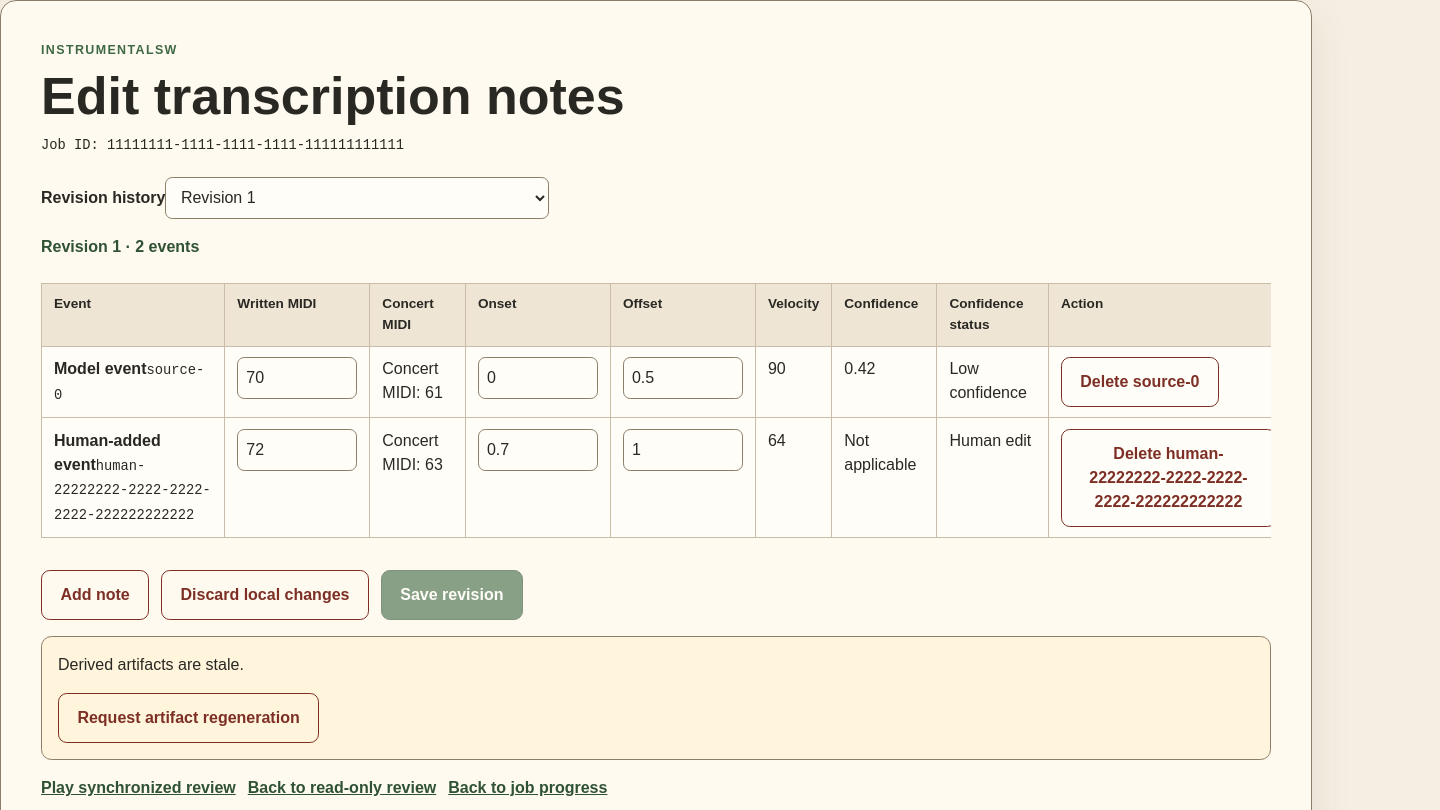
Test: TranscriptionRevisionEditor › shows historical revisions as read-only and returns to latest
The width and height of the screenshot is (1440, 810).
Select "Revision 0 — original" in the dropdown labelled "Revision history" at (358, 198), box x1=166 y1=177 x2=550 y2=219
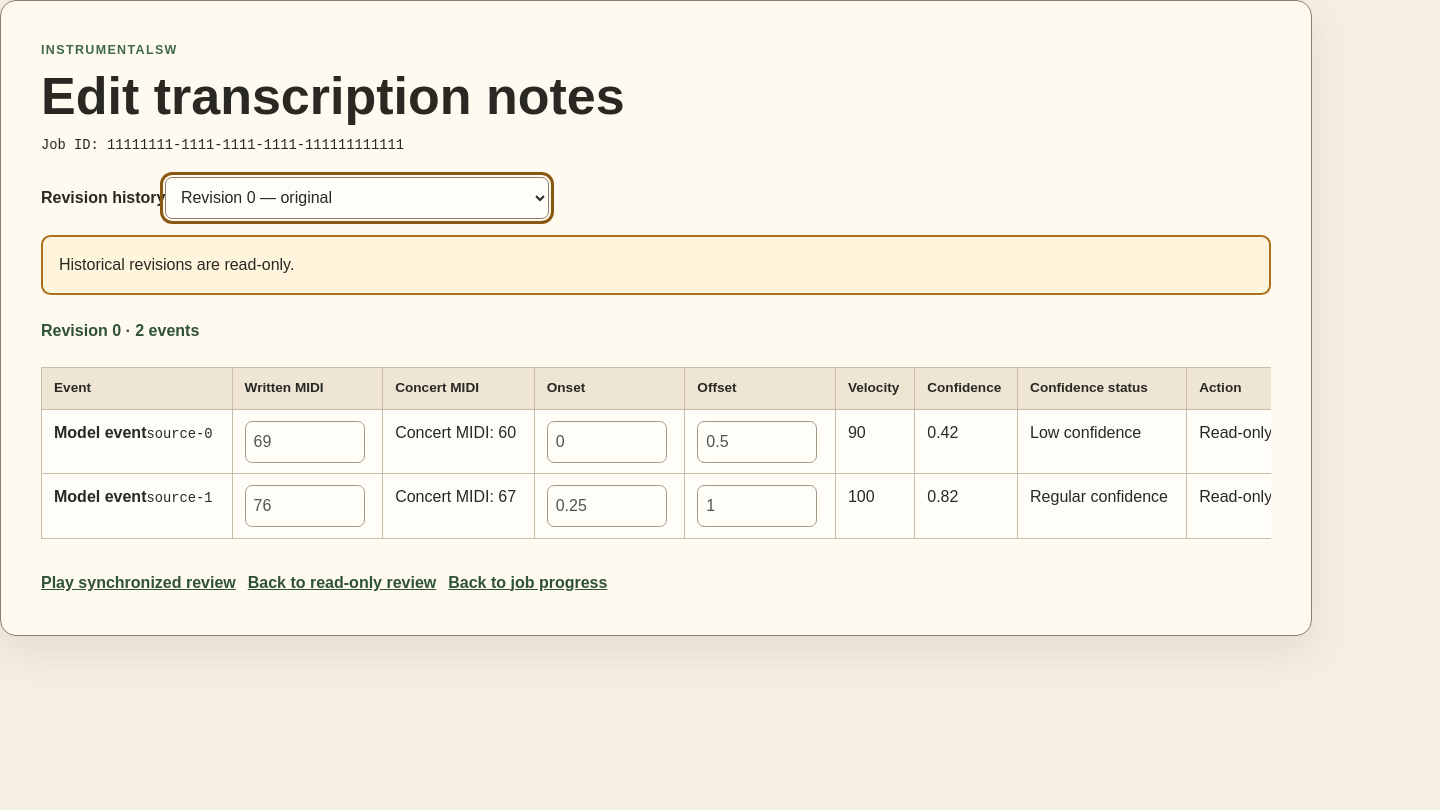
expect the text "Historical revisions are read-only." is shown: met, box x1=41 y1=235 x2=1271 y2=295
expect the number field named "Written MIDI for source-0" is disabled: met, box x1=245 y1=421 x2=365 y2=463
expect the button "Add note" is gone: met
